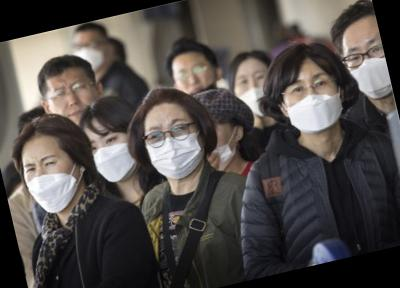with_mask: (279, 66, 352, 141), (141, 111, 208, 181), (22, 147, 87, 218), (341, 35, 395, 103), (87, 124, 142, 188), (232, 66, 280, 122)
without_mask: (41, 72, 103, 133), (169, 55, 222, 101)
